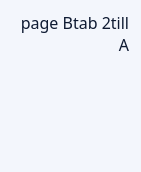
it: the shell's scroll on navigation › a page change brings #main and the marked panes back to the top
Click the link "page B".
click(47, 23)  # box [21,12,73,34]
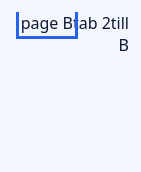
Result: the text "B" is shown at [119,34,129,56]
